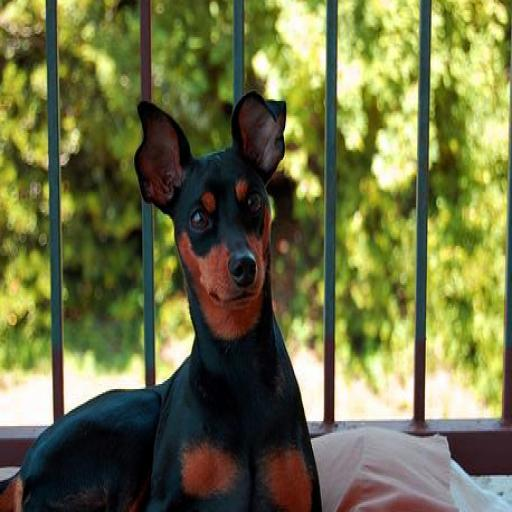dog_face: (128, 92, 293, 321)
